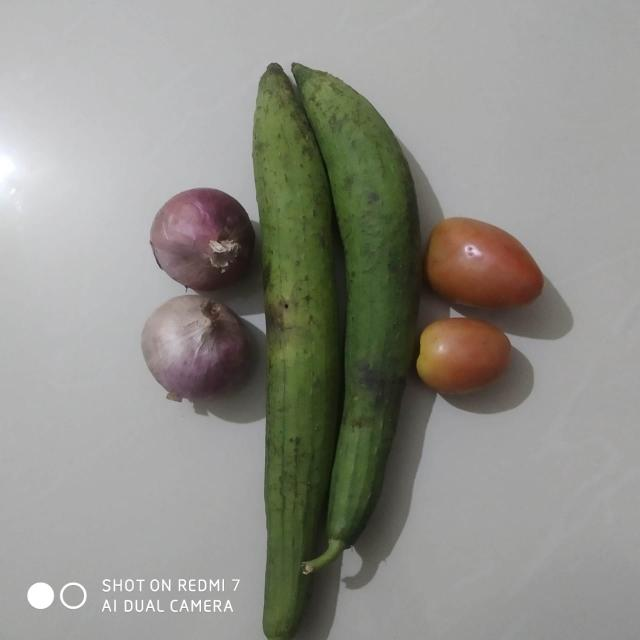Organik: (249, 28, 420, 640), (424, 210, 553, 322), (142, 293, 252, 405), (146, 180, 257, 290), (417, 312, 519, 396)
